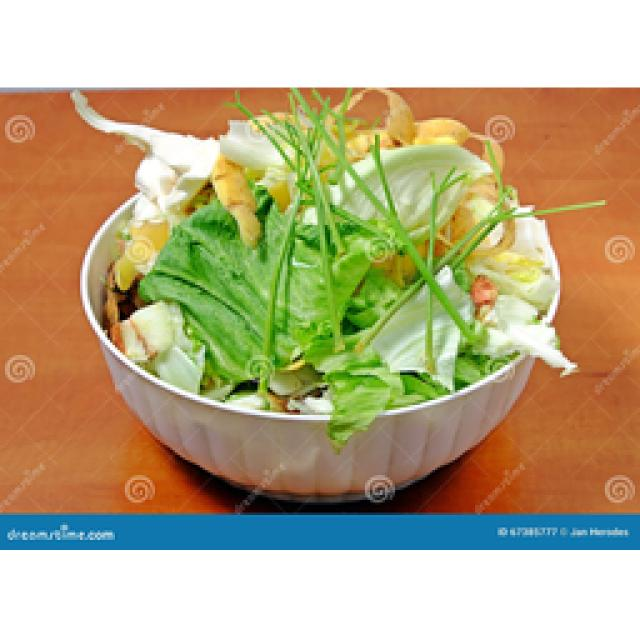food_waste: (72, 90, 602, 452)
